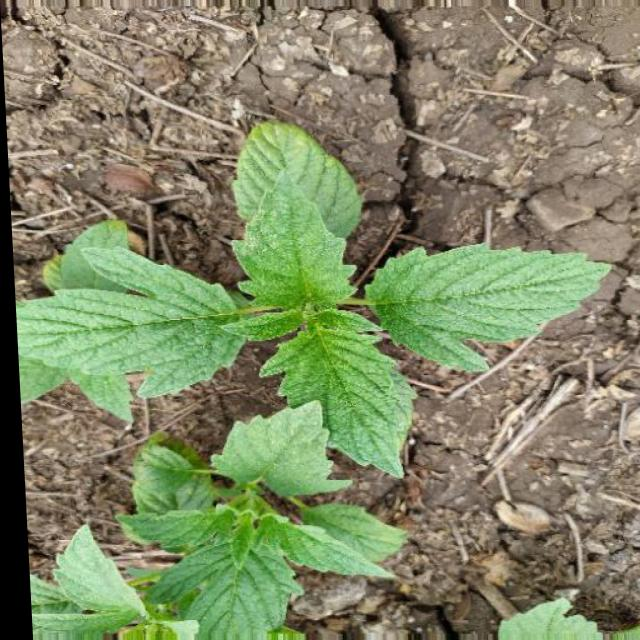crop: (36, 131, 620, 464), (92, 392, 444, 638)
